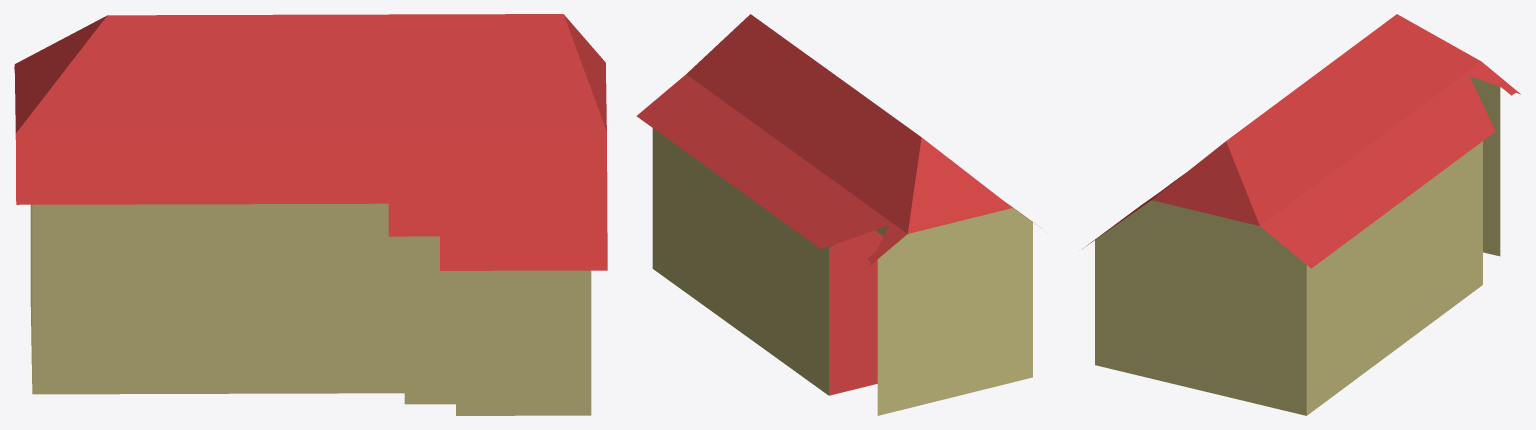
3 views of the same model, side by side, from view 1: azimuth 30°, elevation 25°; view 2: azimuth 150°, elevation 25°; view 3: azimuth 270°, elevation 25° (orthographic). The views are drawn at different scales.
Bounding box in the file's own units: 30.84 × 27.23 × 16.65.
